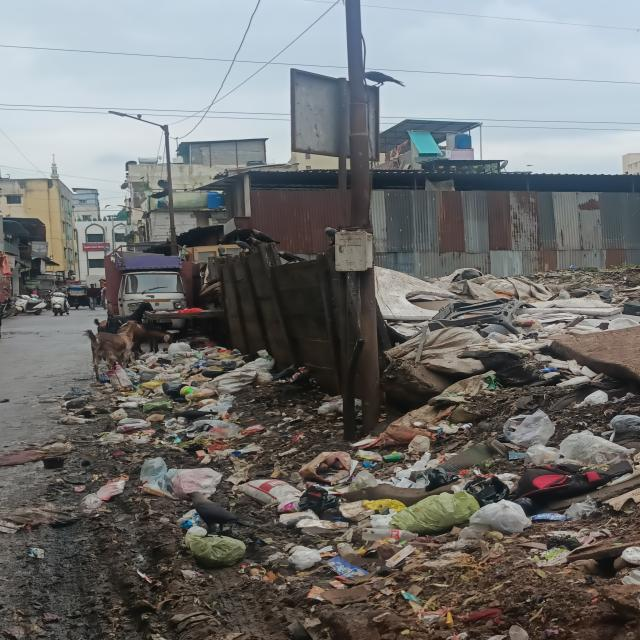garbage: (106, 340, 340, 559), (337, 398, 640, 564), (379, 275, 640, 398)
